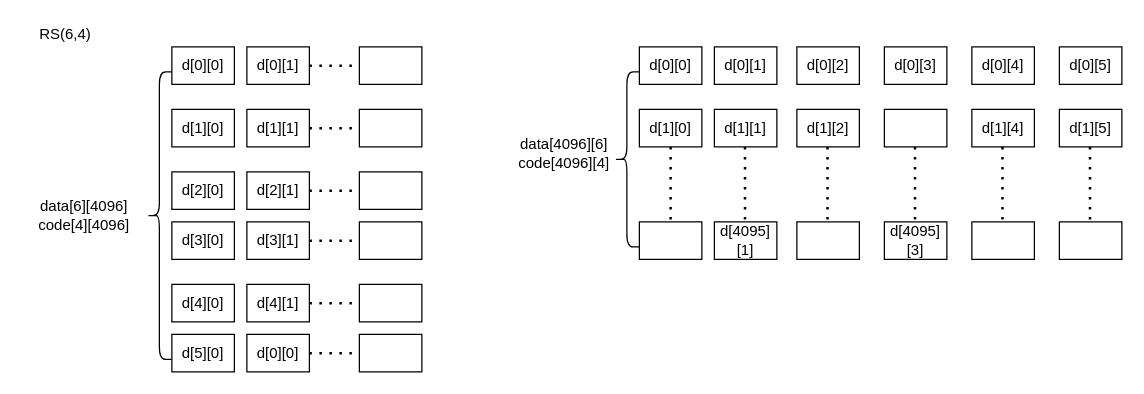
Image size: 1144x394. Some labels were removed from this diagram. Here are the shapes that lost their labels. From the top down, the centre of each, then its label:
At pixel 390 65: "d[0][4095]".
At pixel 915 127: "d[1][3]".
At pixel 670 240: "d[4095][0]".
At pixel 827 240: "d[4095][2]".
At pixel 1002 240: "d[4095][4]".
At pixel 1090 240: "d[4095][5]".
At pixel 390 352: "d[5][4095]".
